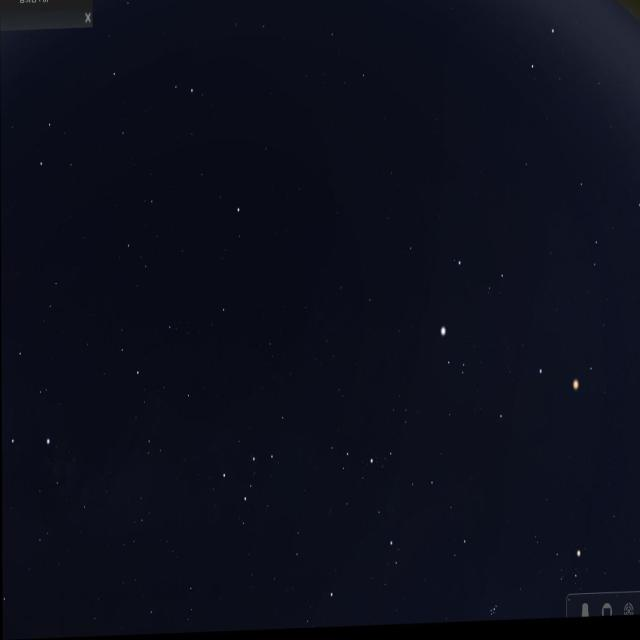cassiopeia: (211, 413, 289, 541)
pleiades: (482, 603, 502, 625)
